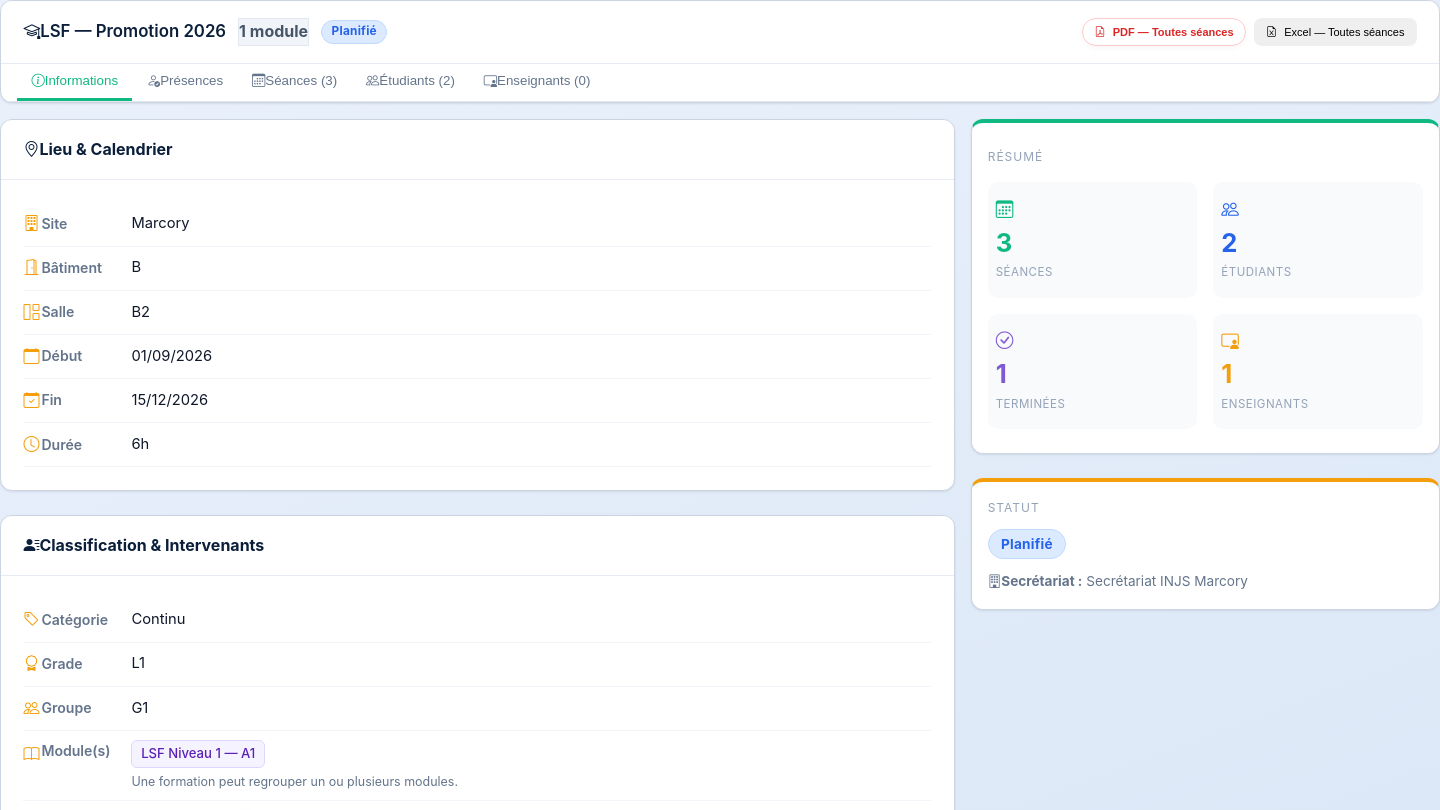
FormationDetail — onglet Séances (cycle de vie) › supprime une séance planifiée après confirmation (DELETE), rien si annulé
This screenshot has width=1440, height=810.
Check: the text "LSF — Promotion 2026" is shown, box [23,18,226,45]
Click the button "Séances (3)" at {"x": 295, "y": 82}, box [238,64,352,101]
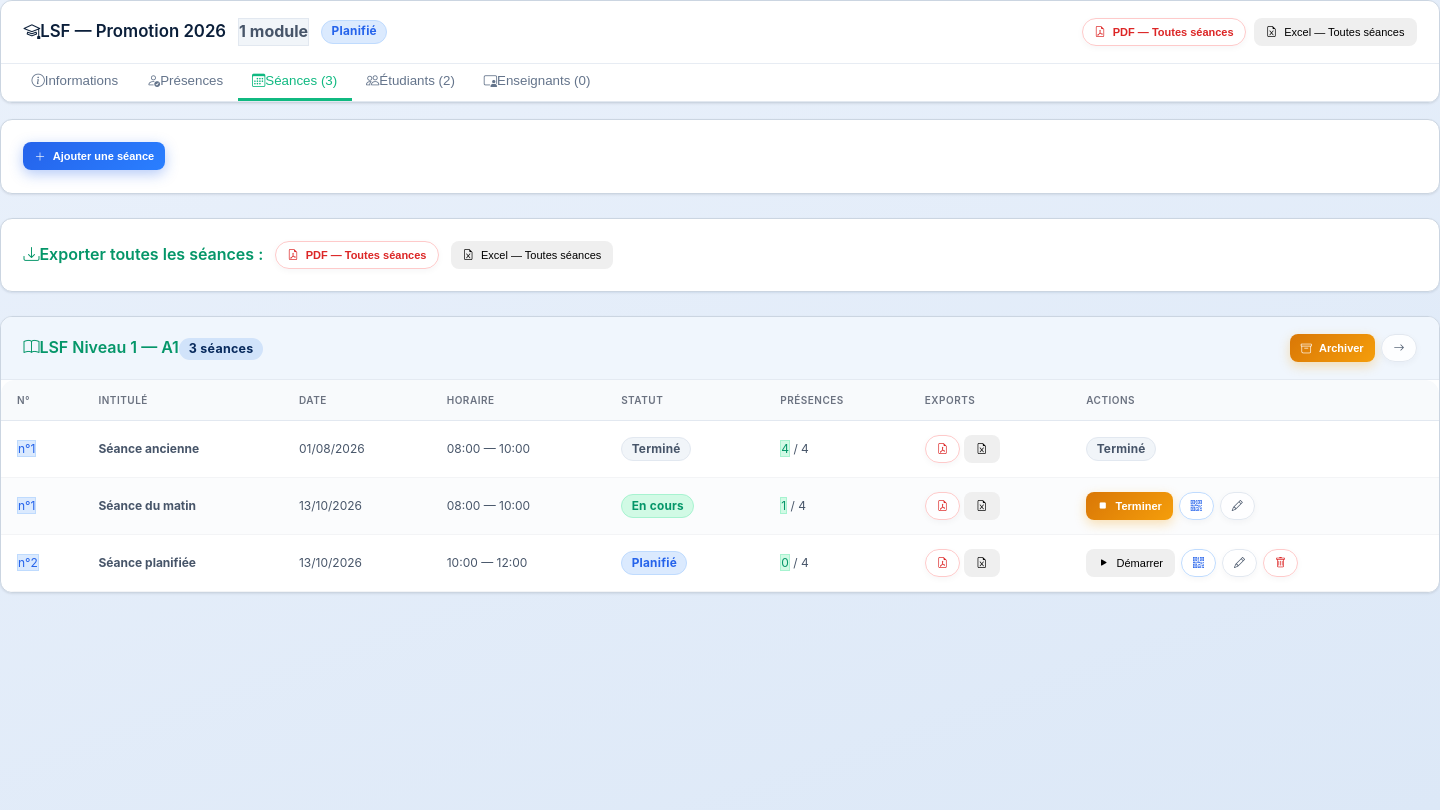
Click the button titled "Supprimer" at {"x": 1280, "y": 563}, box [1263,549,1298,577]
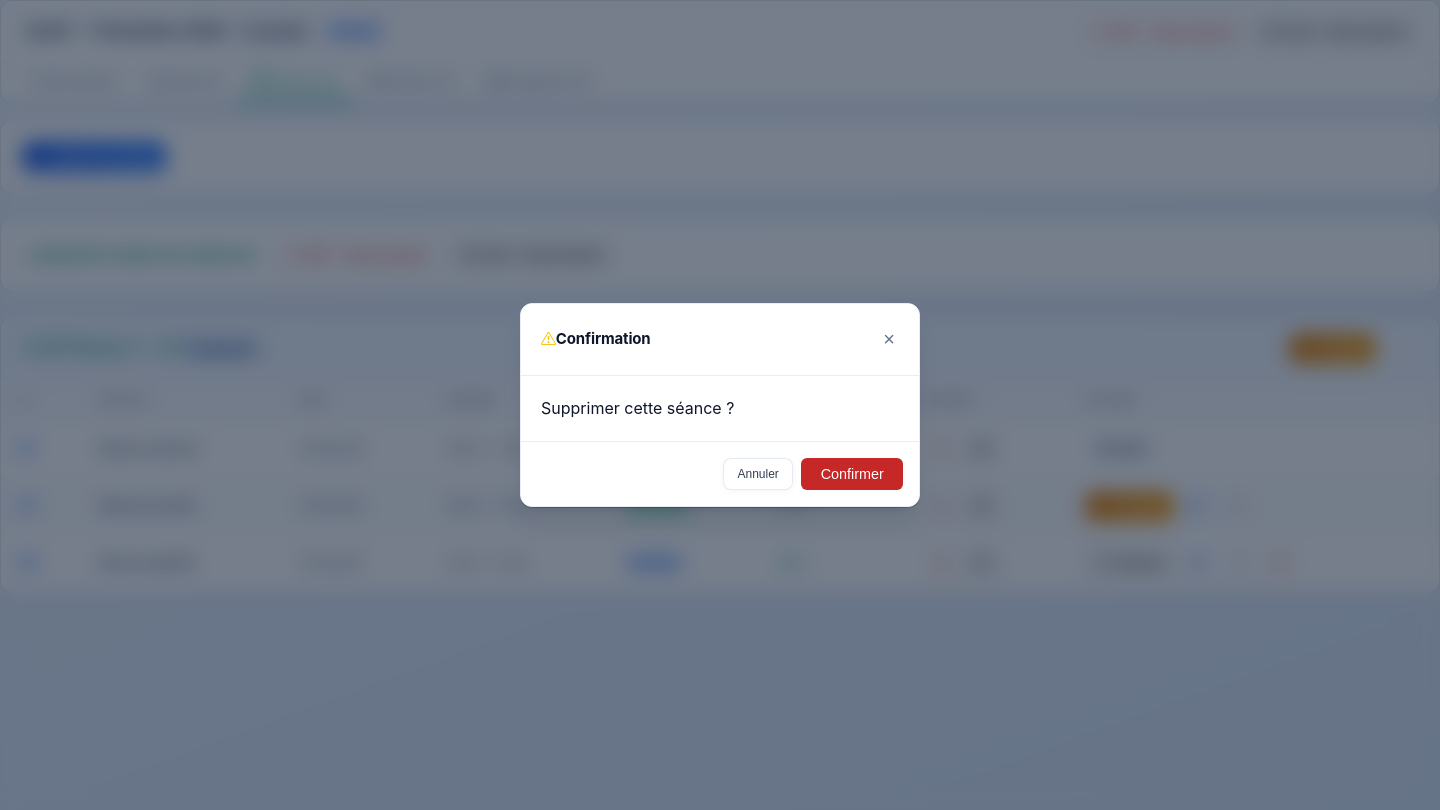
Check: the text "Supprimer cette séance ?" is shown, box [541,398,734,418]
Click the button "Annuler" at {"x": 758, "y": 474}, box [723,458,794,490]
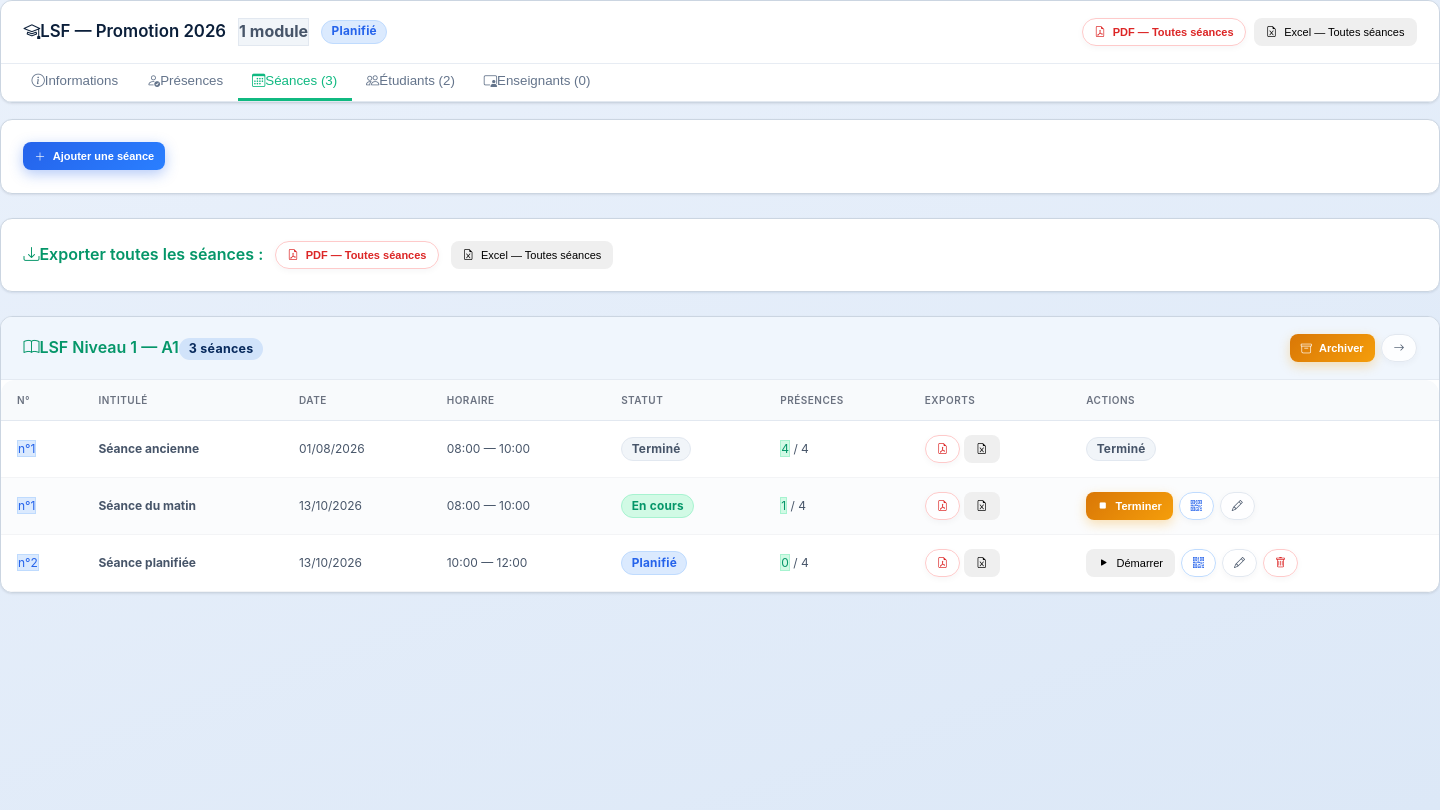
Click the button titled "Supprimer" at {"x": 1280, "y": 563}, box [1263,549,1298,577]
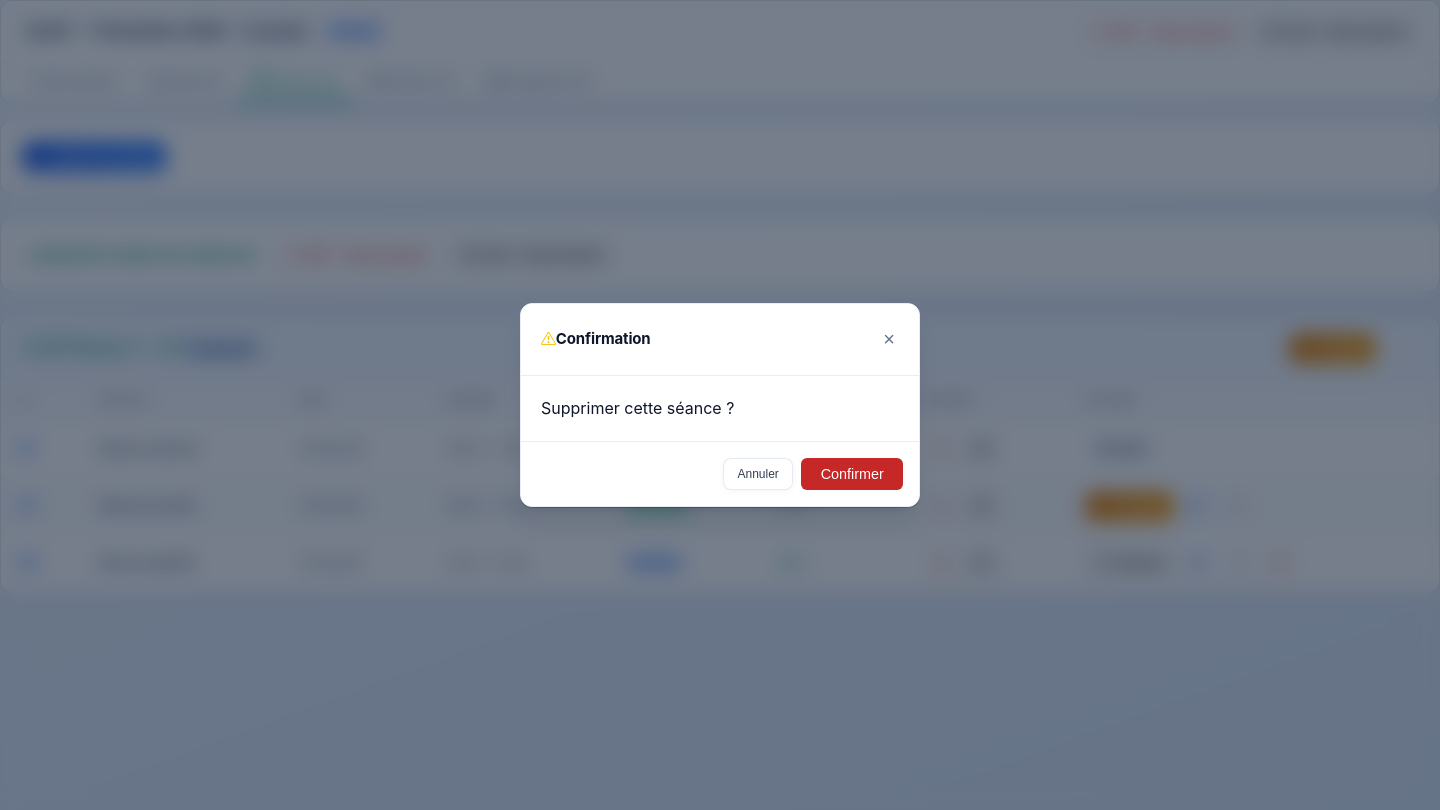
Check: the text "Supprimer cette séance ?" is shown, box [541,398,734,418]
Click the button "Confirmer" at {"x": 852, "y": 474}, box [802,458,903,490]
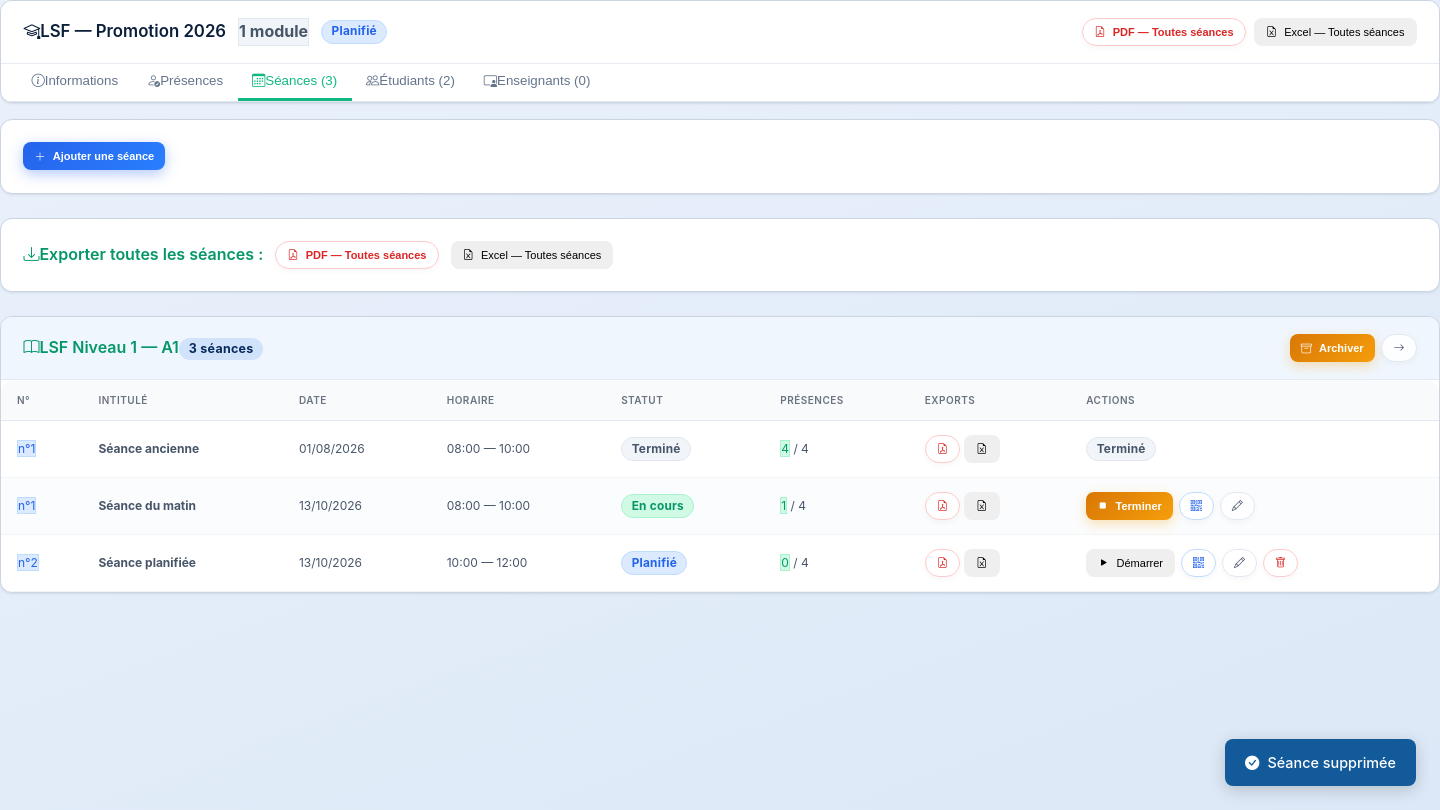
Check: the text "Séance supprimée" is shown, box [1225,739,1416,786]
